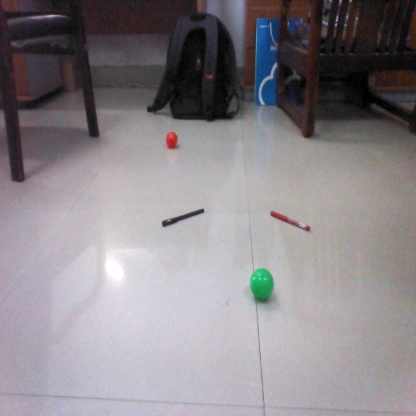ball: (247, 267, 278, 300), (163, 131, 182, 147)
pen: (268, 210, 311, 231), (161, 208, 208, 226)
